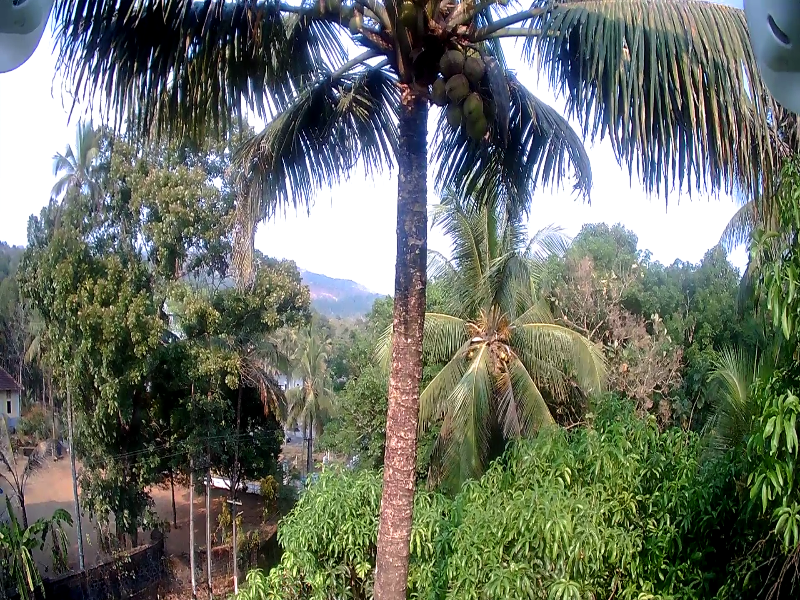coconut: (442, 42, 461, 73), (399, 1, 415, 27), (467, 94, 481, 123), (445, 105, 458, 132), (467, 55, 481, 80), (427, 79, 441, 102), (350, 15, 364, 36), (451, 73, 467, 88), (338, 6, 350, 26), (464, 127, 482, 140)
